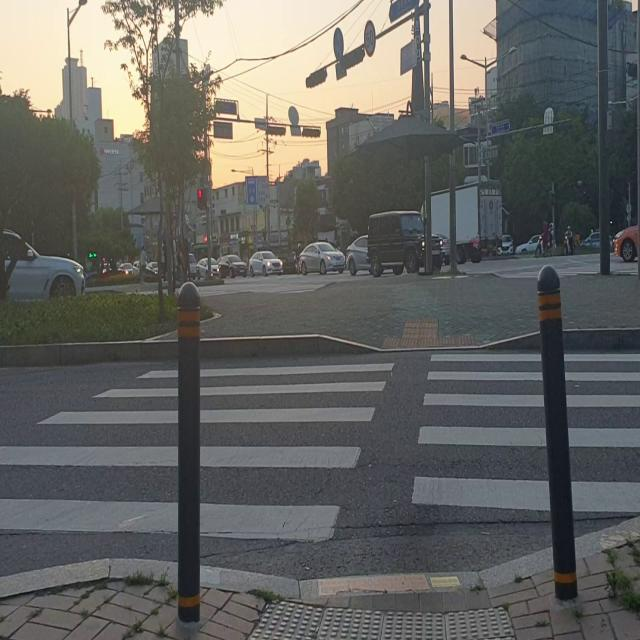빨간불: (196, 184, 203, 210)
횡단보도: (0, 350, 640, 543), (504, 262, 640, 284)
